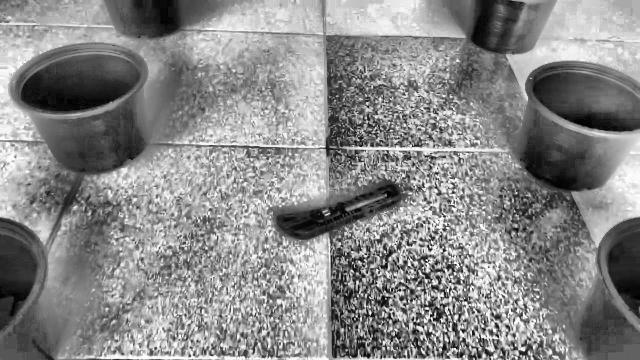pot: (8, 43, 152, 176), (516, 61, 640, 192)
